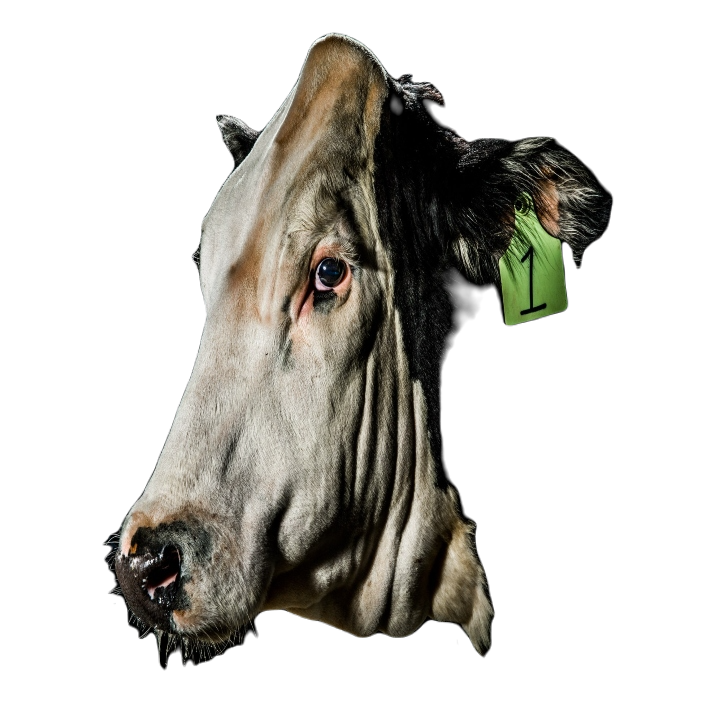Cow: (106, 39, 614, 670)
